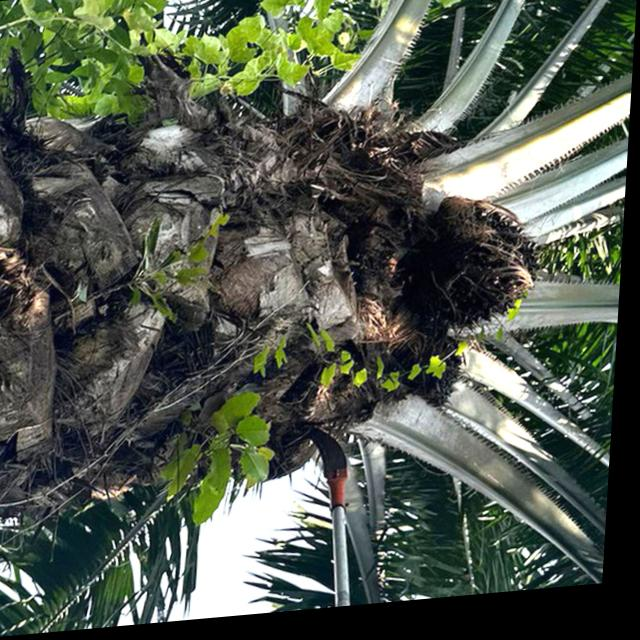unripe: (422, 203, 556, 338)
